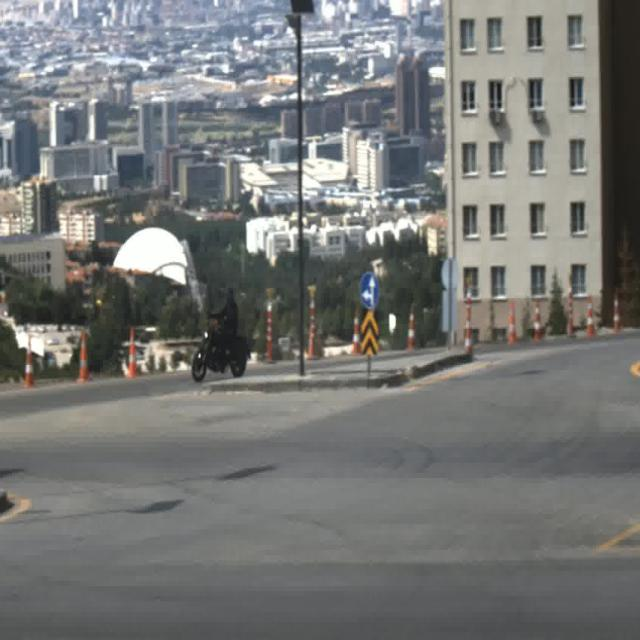Motorcycle: (192, 290, 252, 380)
